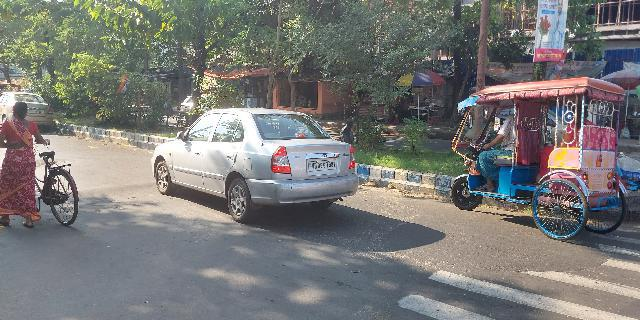Car: (145, 103, 362, 220)
Cycle: (12, 141, 92, 220)
Rickshaw: (448, 80, 632, 238)
